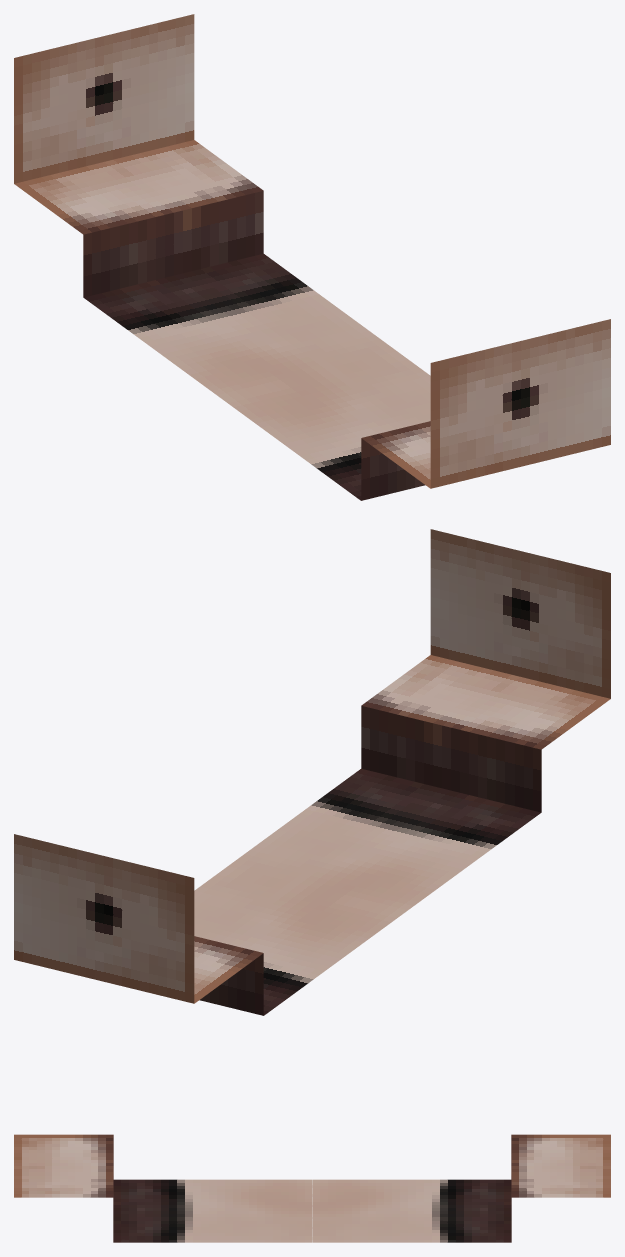
Rendered from m_canal01.fbx.
The picture shows the model from 3 angles, top to bottom: view 1: azimuth 30°, elevation 25°; view 2: azimuth 150°, elevation 25°; view 3: azimuth 270°, elevation 25°; orthographic projection. The views are drawn at different scales.
Visible parts, largest first — view 1: Cube.003; view 2: Cube.003; view 3: Cube.003.
Part boxes in pixels (x1,y1,x2,y2): Cube.003: (14, 14, 610, 500); Cube.003: (14, 529, 610, 1015); Cube.003: (14, 1134, 610, 1242).
Bounding box in the file's own units: 600 × 600 × 2400.
Materials: 1 (1 with a texture image).
